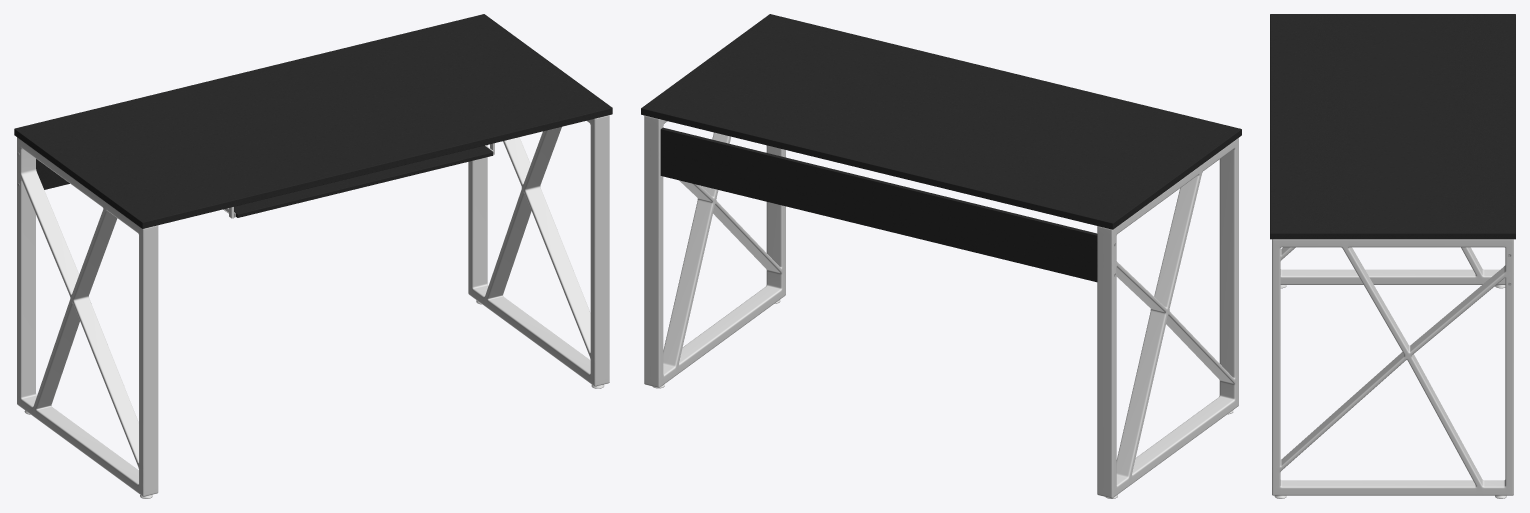
The model's file is PC-desk.fbx.
3 views of the same model, side by side, from view 1: azimuth 30°, elevation 25°; view 2: azimuth 150°, elevation 25°; view 3: azimuth 270°, elevation 25° (orthographic). The views are drawn at different scales.
Parts seen in each view (by area): view 1: PC_desk_; view 2: PC_desk_; view 3: PC_desk_.
Part boxes in pixels (x1,y1,x2,y2): PC_desk_: (14, 14, 612, 498); PC_desk_: (641, 14, 1241, 498); PC_desk_: (1270, 14, 1515, 498).
Size of the model in its own units: 1.5 by 0.8531 by 0.71.
